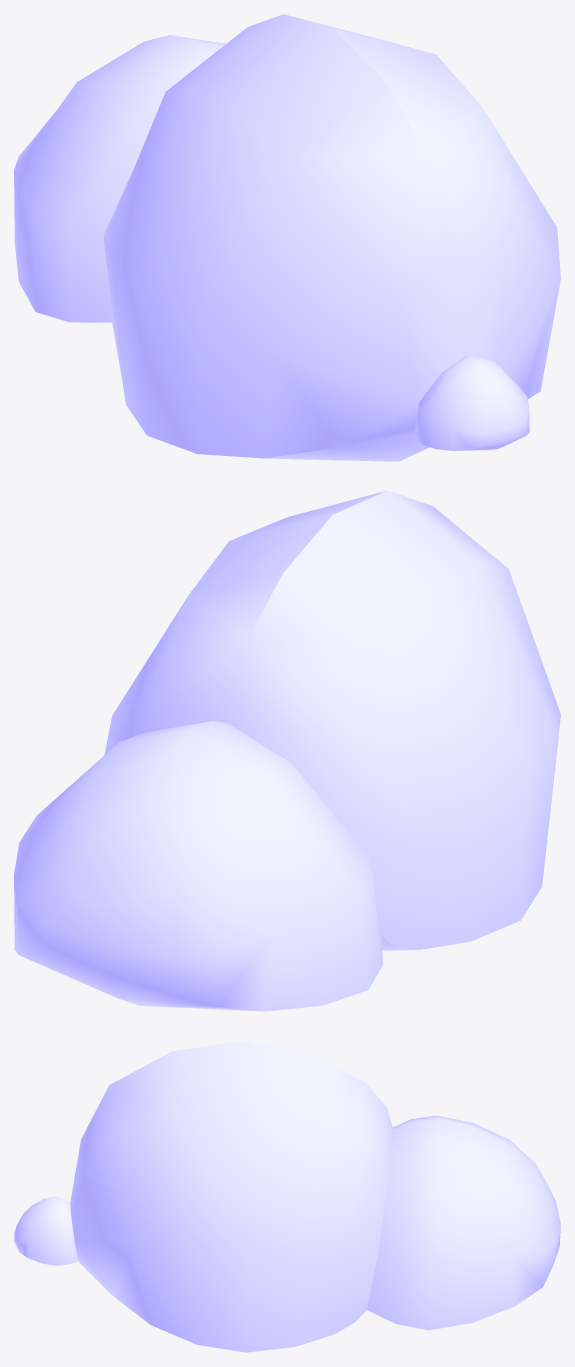
The model's file is Cloud02.fbx.
The picture shows the model from 3 angles, top to bottom: view 1: azimuth 30°, elevation 25°; view 2: azimuth 150°, elevation 25°; view 3: azimuth 270°, elevation 25°; orthographic projection. The views are drawn at different scales.
Visible parts, largest first — view 1: Cloud02; view 2: Cloud02; view 3: Cloud02.
Part boxes in pixels (<box>): Cloud02: <box>14,14,560,461</box>; Cloud02: <box>14,490,560,1011</box>; Cloud02: <box>14,1040,560,1352</box>.
Size of the model in its own units: 383 by 389 by 677.
